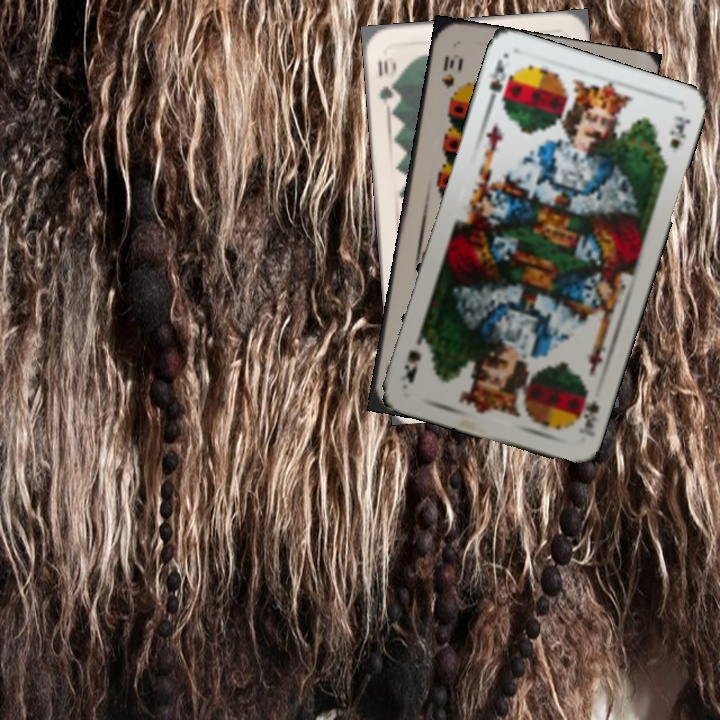G10: (374, 55, 400, 108)
S10: (438, 51, 457, 91)
SK: (483, 55, 514, 110), (572, 383, 602, 432)
